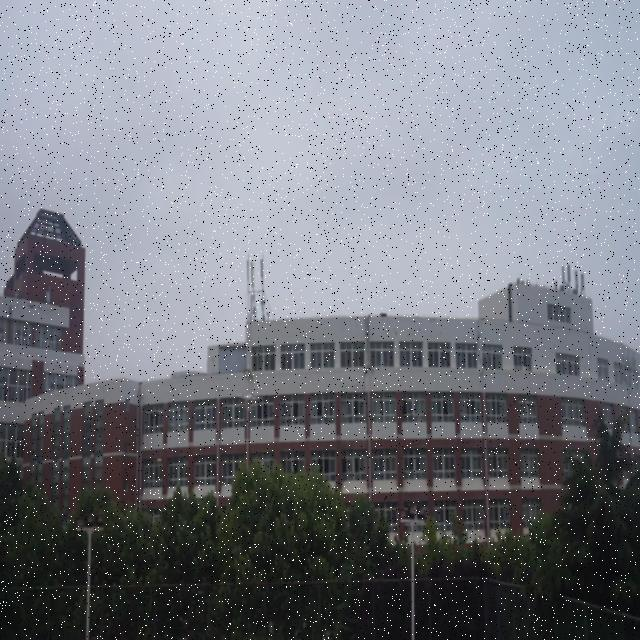UAV: (238, 394, 263, 411)
